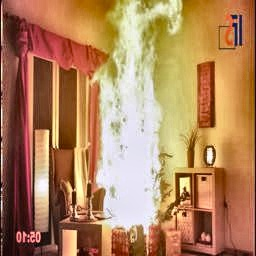fire: (87, 0, 192, 229)
